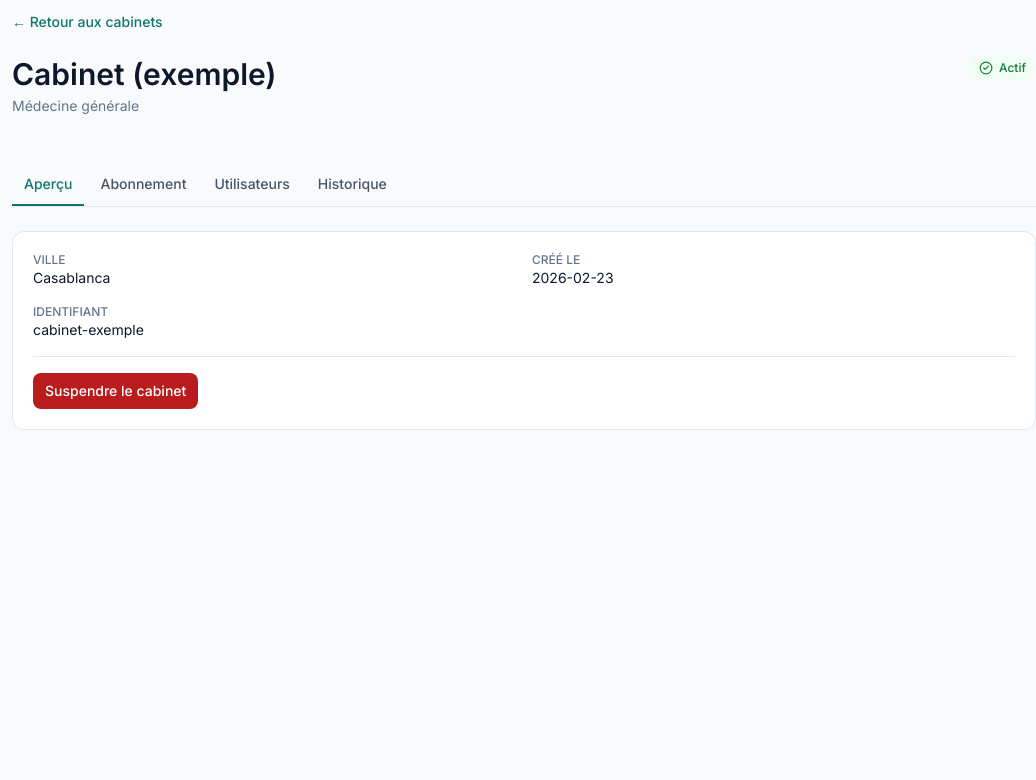
Test case: TenantDetailPage › Subscription tab shows the real active subscription, its plan and entitlements, with only Cancel offered
Click the tab "Abonnement" at (144, 185), box [88,164,198,206]
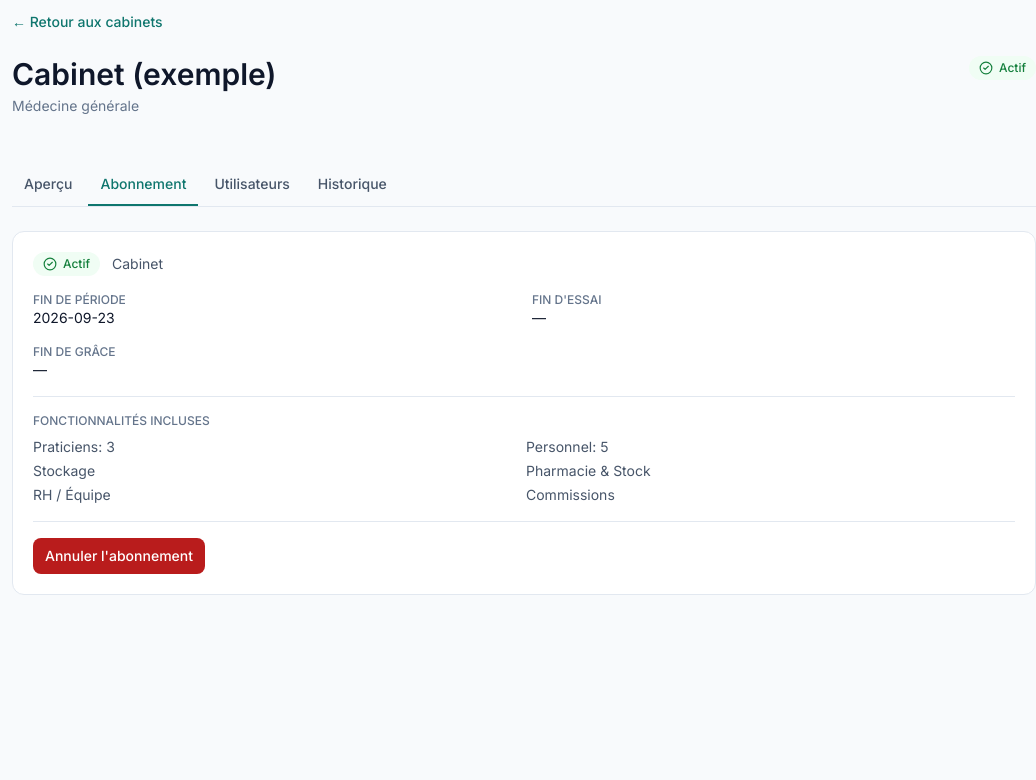
Expected: the text "Cabinet" is shown, [112,254,163,274]
Expected: the list item "Praticiens: 3" is shown, [33,438,115,455]
Expected: the button "Annuler l'abonnement" is shown, [33,538,205,574]
